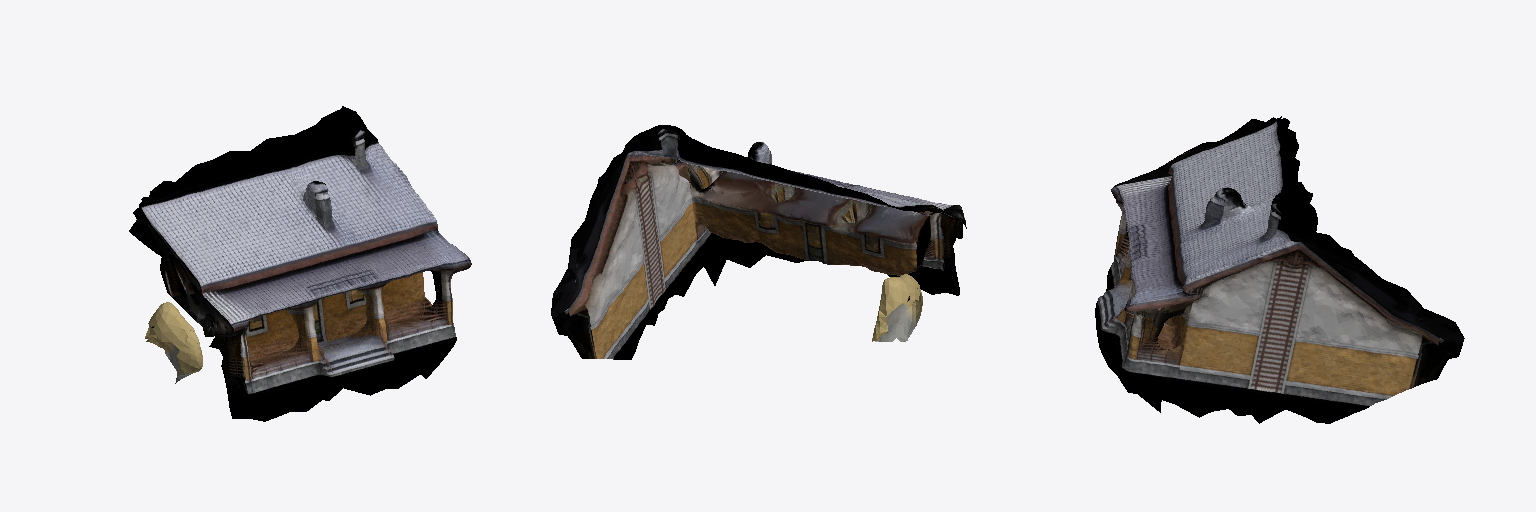
The picture shows the model from 3 angles: view 1: azimuth 30°, elevation 25°; view 2: azimuth 150°, elevation 25°; view 3: azimuth 270°, elevation 25°; orthographic projection.
Bounding box in the file's own units: 18.02 × 13.84 × 20.45.
Materials: 1 (1 with a texture image).